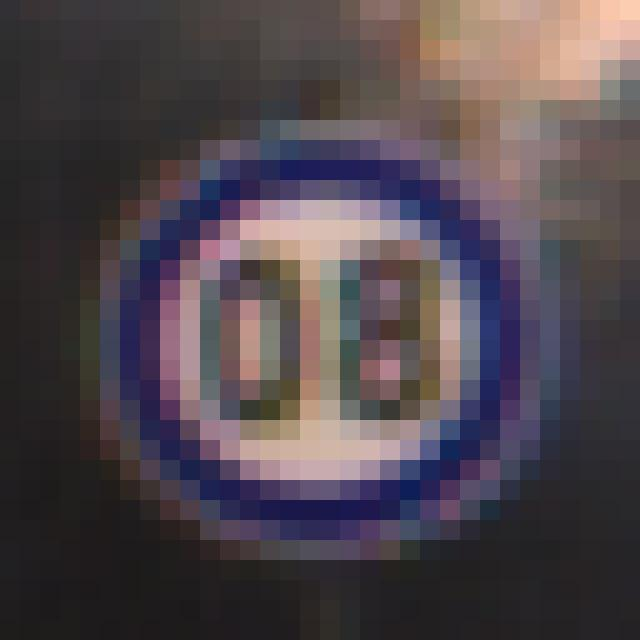SPEED-LIMIT-80: (115, 123, 543, 552)
